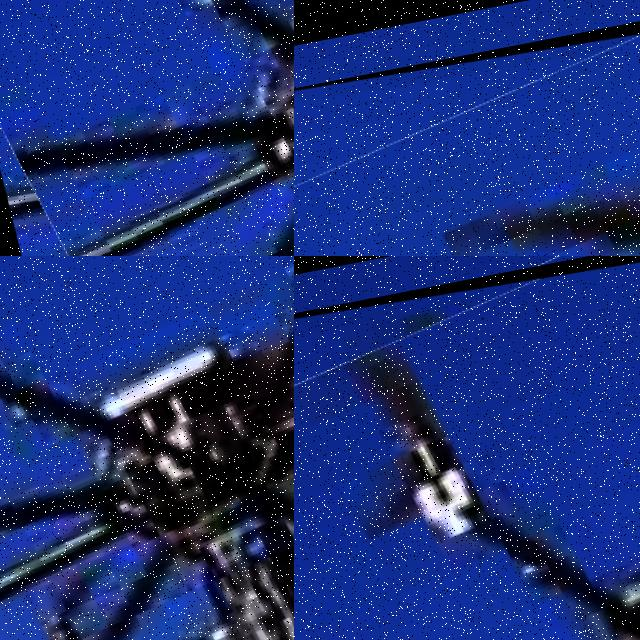drone: (294, 256, 640, 640), (0, 256, 294, 640), (294, 0, 640, 256), (0, 0, 294, 256)
